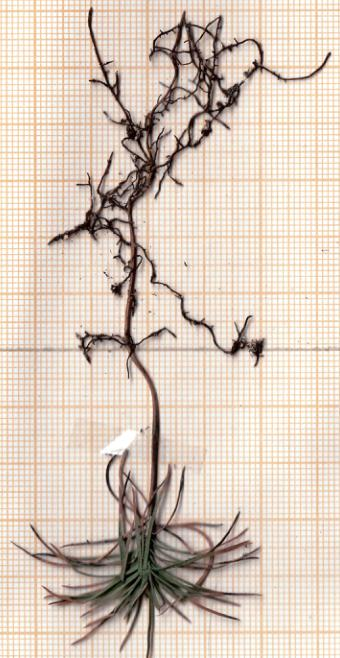flower: (8, 492, 265, 658)
root: (42, 3, 337, 373)
stem: (128, 364, 168, 509)
